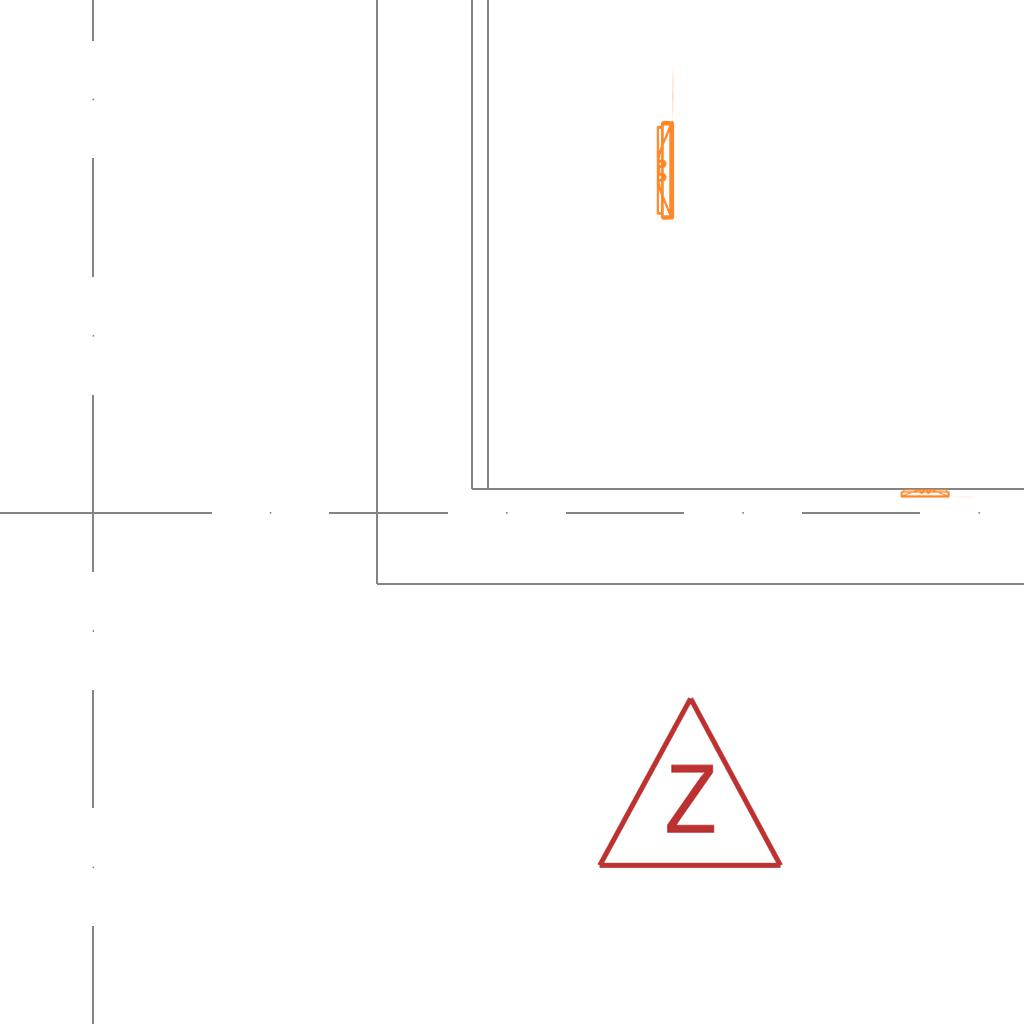Sicherheitsleuchte_Wandeinbau: (652, 66, 677, 225), (898, 487, 977, 499)
Zimmersignalleuchte: (590, 683, 786, 883)
